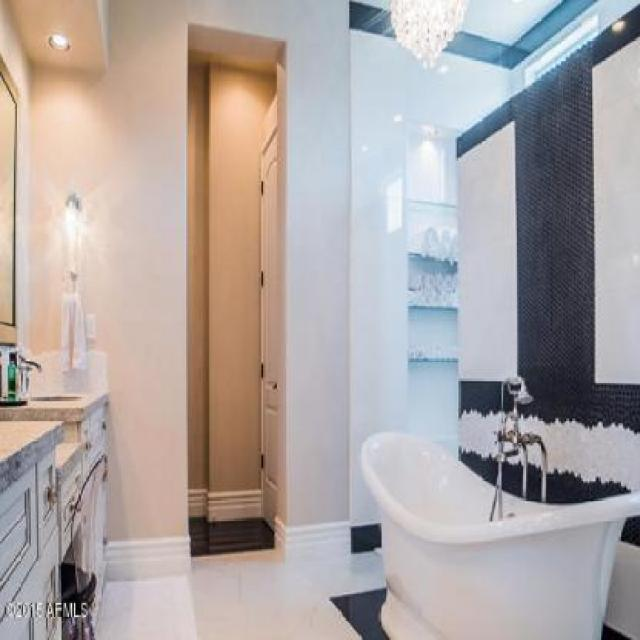Floor: (94, 516, 388, 638), (600, 623, 632, 638)
